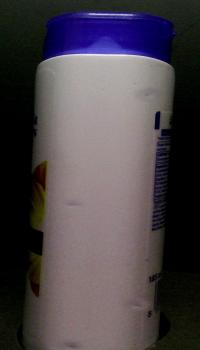dent_marginal: (55, 196, 104, 211), (53, 331, 90, 350), (128, 80, 164, 98), (122, 294, 146, 316)
